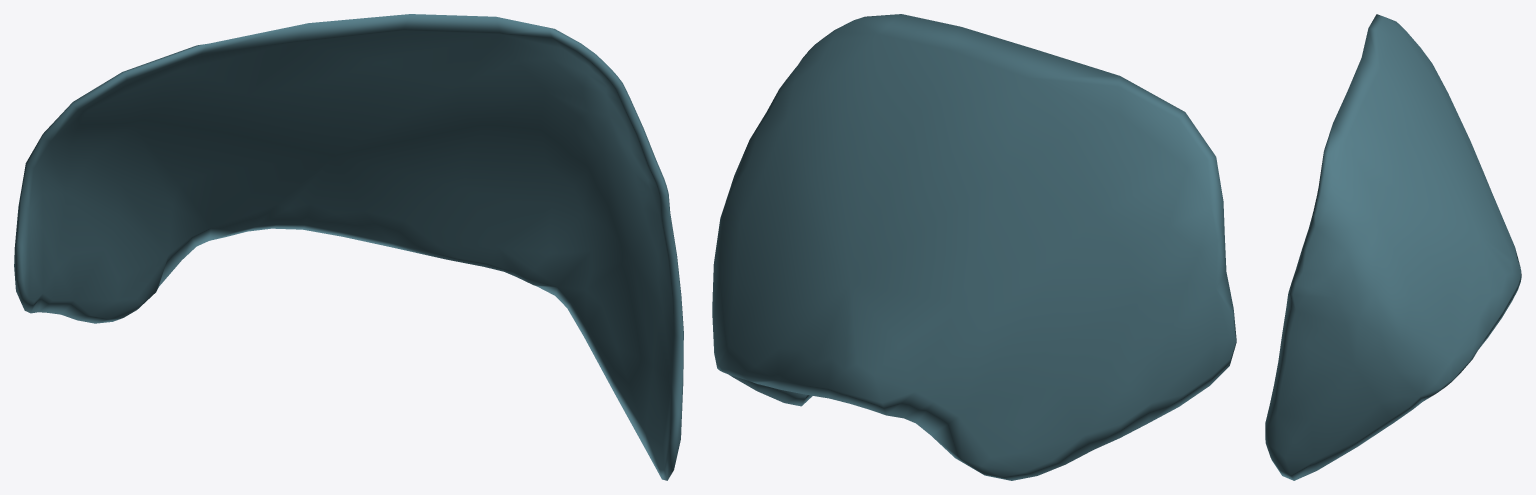
The model's file is Triceps_brachii-Ulnar_insertion.r_Generated_Mesh_From_X3D.630.glb.
3 views of the same model, side by side, from view 1: azimuth 30°, elevation 25°; view 2: azimuth 150°, elevation 25°; view 3: azimuth 270°, elevation 25° (orthographic). The views are drawn at different scales.
Visible parts, largest first — view 1: Triceps_brachii-Ulnar_insertion.r_Generated_Mesh_From_X3D.63; view 2: Triceps_brachii-Ulnar_insertion.r_Generated_Mesh_From_X3D.63; view 3: Triceps_brachii-Ulnar_insertion.r_Generated_Mesh_From_X3D.63.
Boxes of the visible parts, x1,y1,x2,y2 form: Triceps_brachii-Ulnar_insertion.r_Generated_Mesh_From_X3D.63: [14, 14, 683, 480]; Triceps_brachii-Ulnar_insertion.r_Generated_Mesh_From_X3D.63: [712, 14, 1236, 480]; Triceps_brachii-Ulnar_insertion.r_Generated_Mesh_From_X3D.63: [1265, 14, 1521, 480].
Size of the model in its own units: 0.0222 by 0.0179 by 0.0128.
